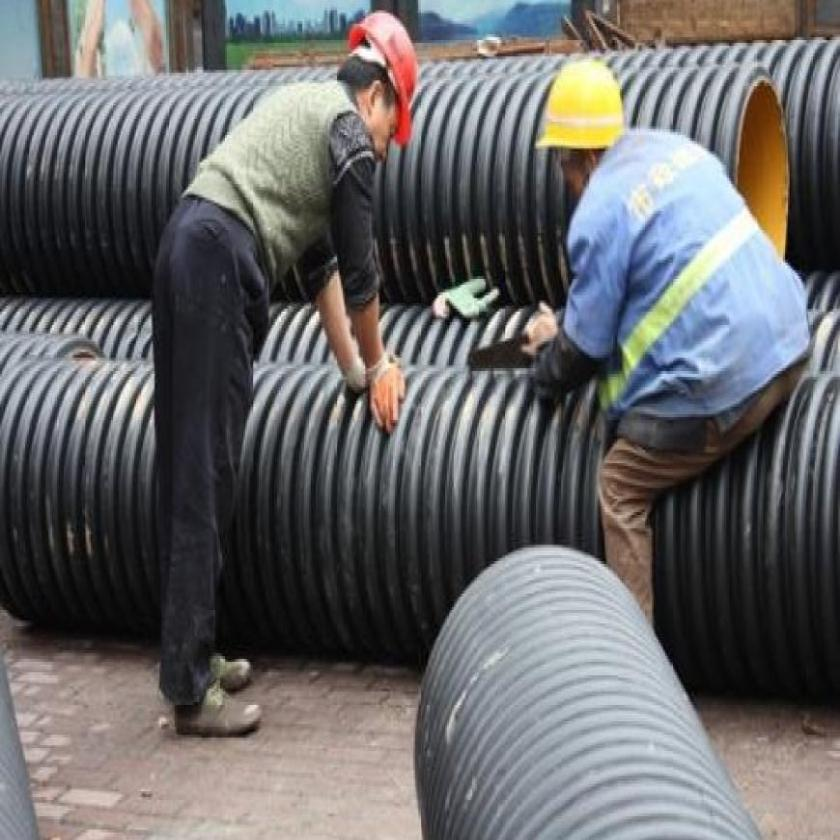Con_casco: (528, 48, 624, 206), (342, 6, 419, 177)
